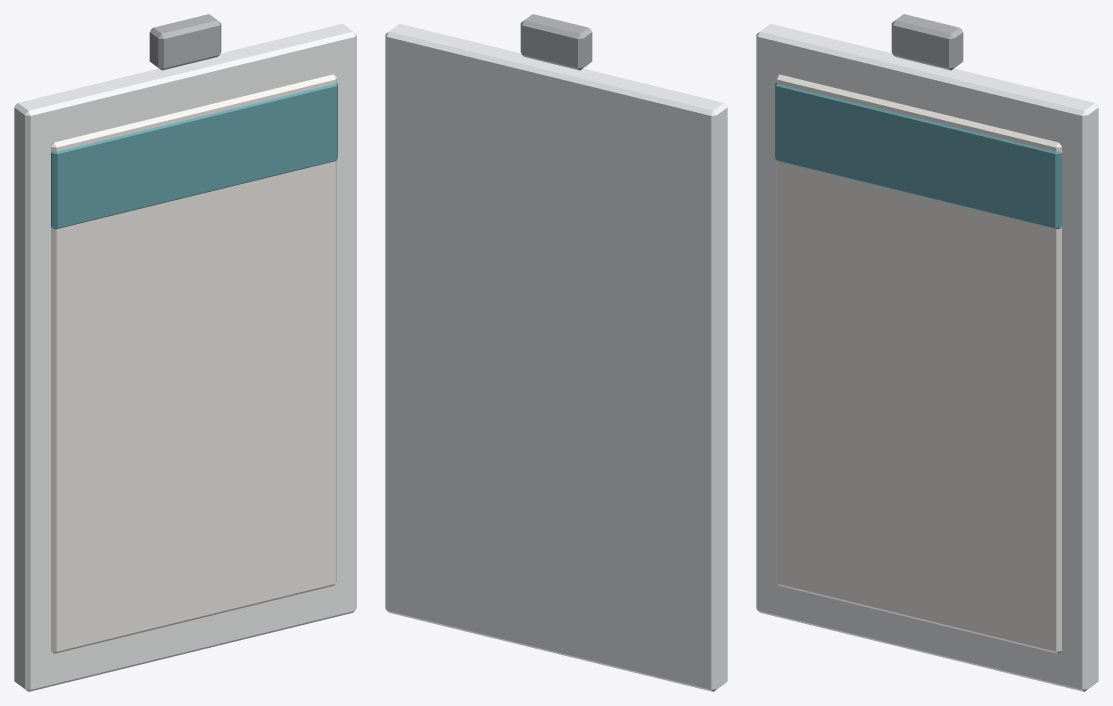
The model's file is prop_shelf_talker_01.glb.
The picture shows the model from 3 angles, left to right: view 1: azimuth 30°, elevation 25°; view 2: azimuth 150°, elevation 25°; view 3: azimuth 330°, elevation 25°; orthographic projection.
Visible parts, largest first — view 1: prop_shelf_talker_01; view 2: prop_shelf_talker_01; view 3: prop_shelf_talker_01.
Boxes of the visible parts, <box> form: prop_shelf_talker_01: <box>14,14,356,691</box>; prop_shelf_talker_01: <box>385,14,727,691</box>; prop_shelf_talker_01: <box>756,14,1098,691</box>.
Size of the model in its own units: 0.1 by 0.18 by 0.01.
